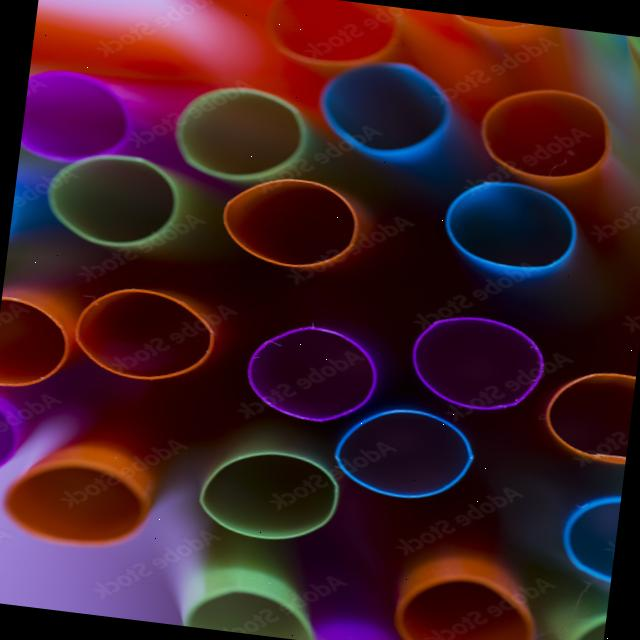plastic: (354, 528, 570, 640)
